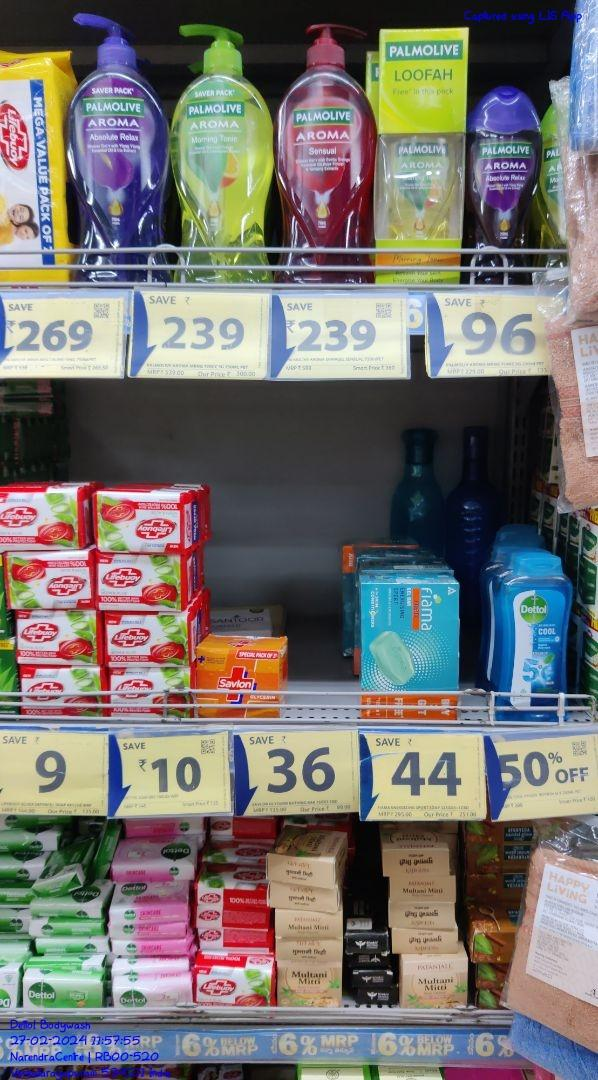Dettol_Bodywash_Cool: (498, 550, 572, 724)
Palmolive_Aroma_Relax_250ML: (471, 81, 539, 285)
